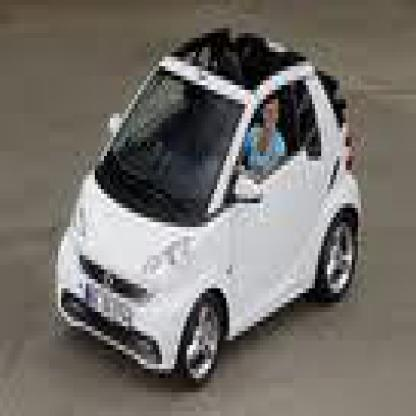Vehicle: (55, 24, 373, 388)
